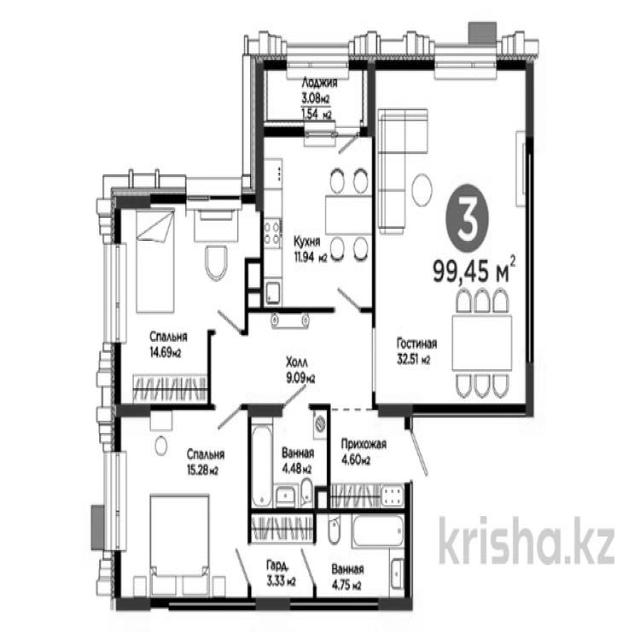balcony: (258, 56, 370, 132)
bathroom: (316, 510, 410, 604), (250, 404, 329, 509)
hallway: (208, 310, 374, 407), (328, 411, 409, 511)
kitchen: (262, 130, 372, 310)
living_room: (373, 60, 532, 411), (113, 195, 248, 402), (117, 409, 249, 603)
other: (250, 512, 318, 605)
